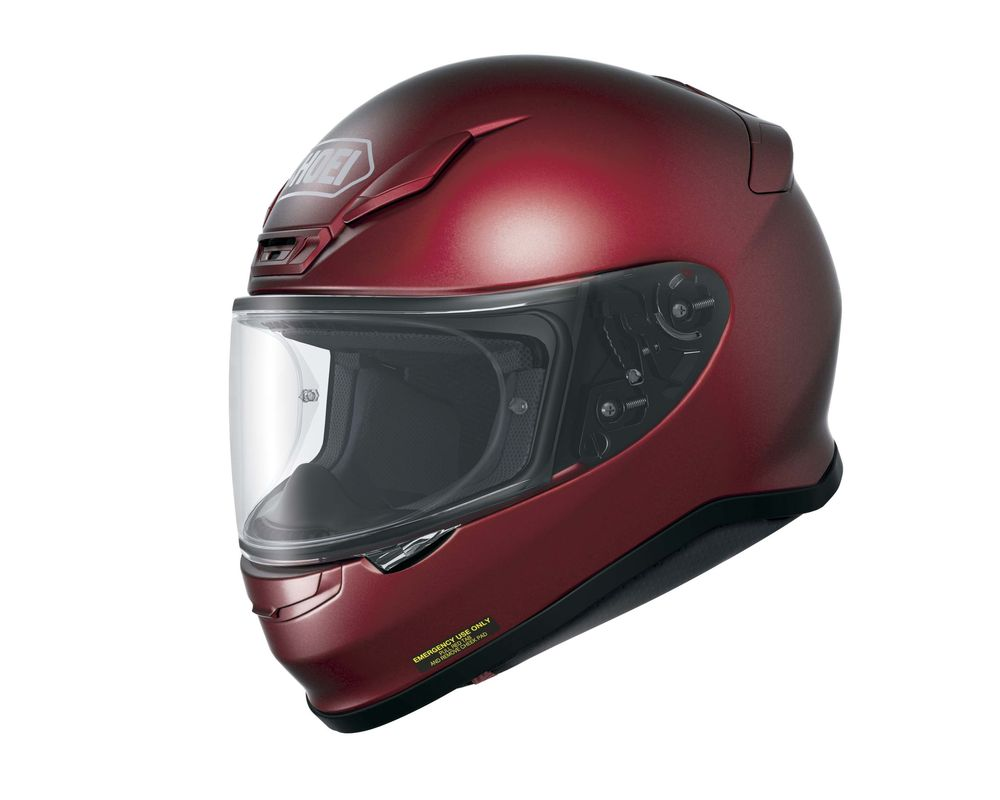with_helmet: (217, 47, 854, 741)
